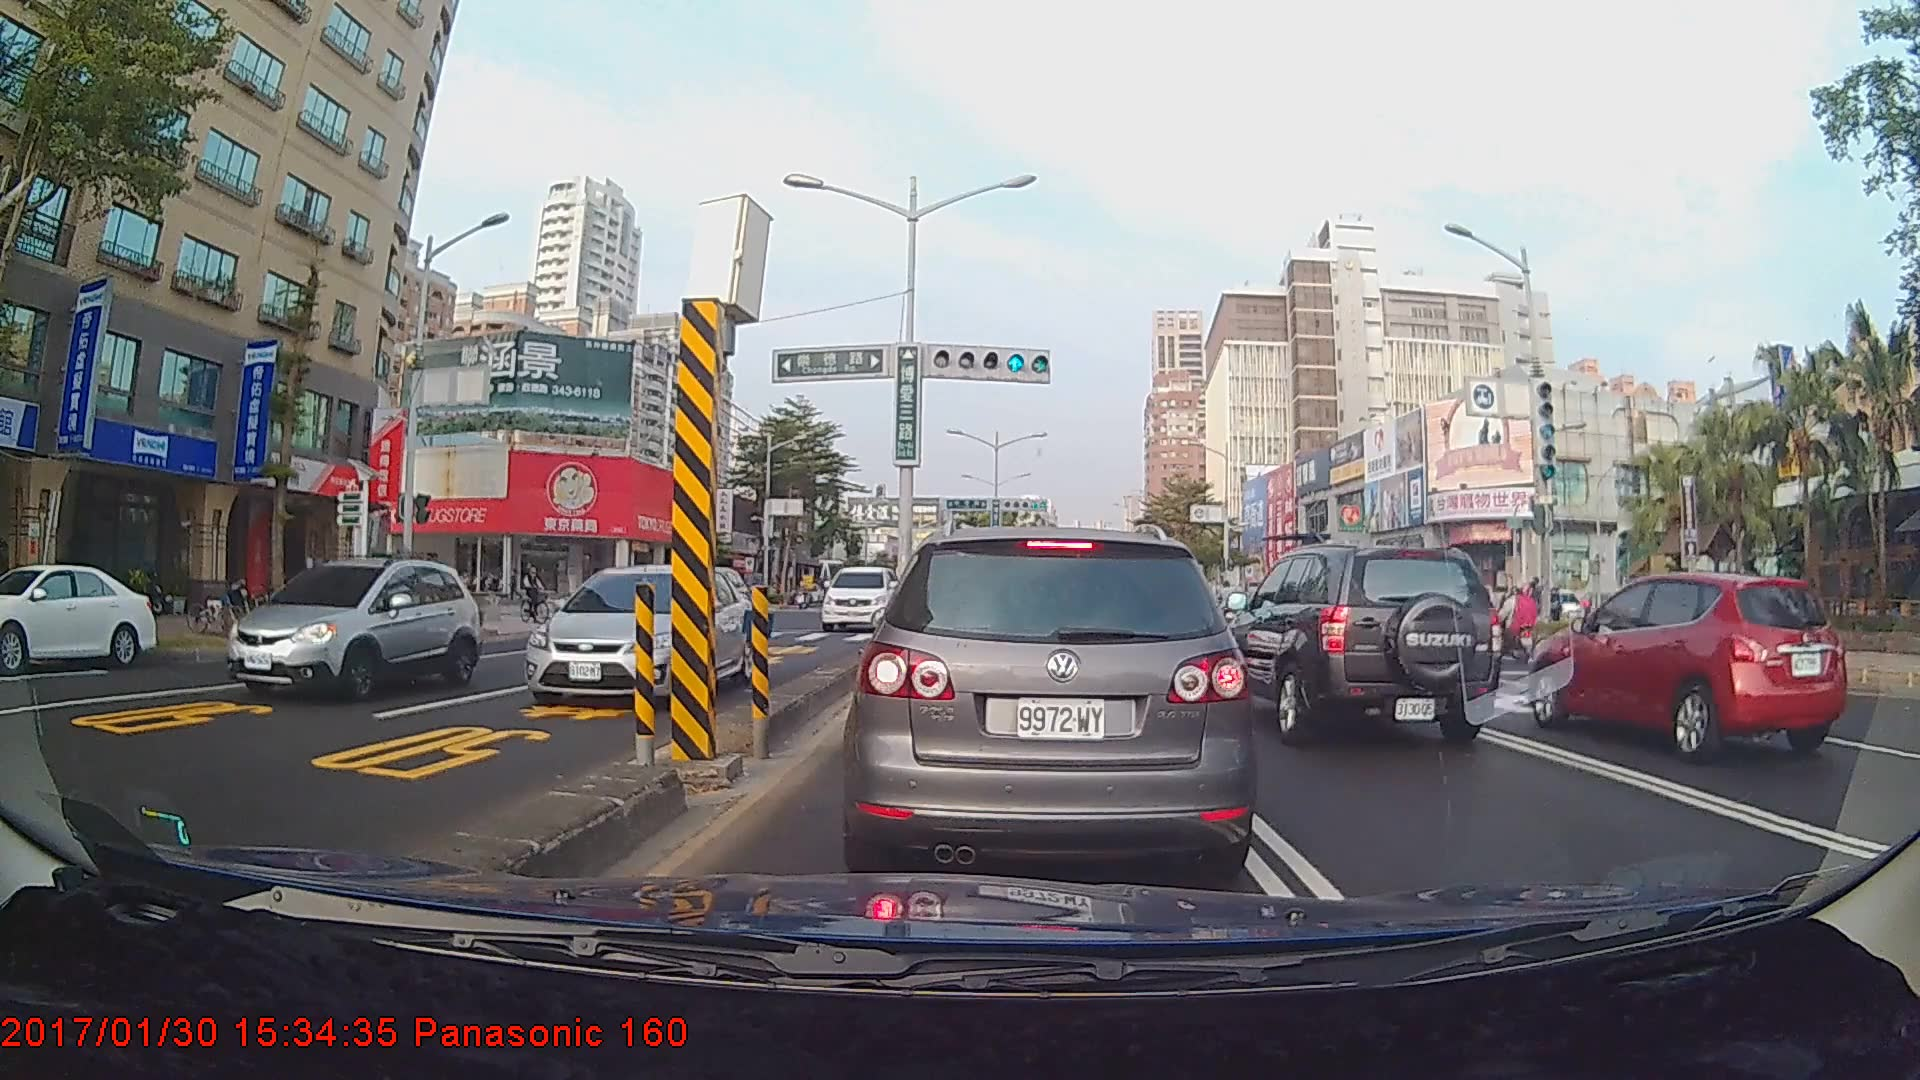rider: (518, 559, 561, 629)
vehicle: (847, 524, 1251, 883), (1531, 565, 1843, 763), (1221, 539, 1503, 751), (225, 555, 482, 702), (520, 564, 751, 708), (0, 561, 158, 671), (818, 563, 902, 632)
